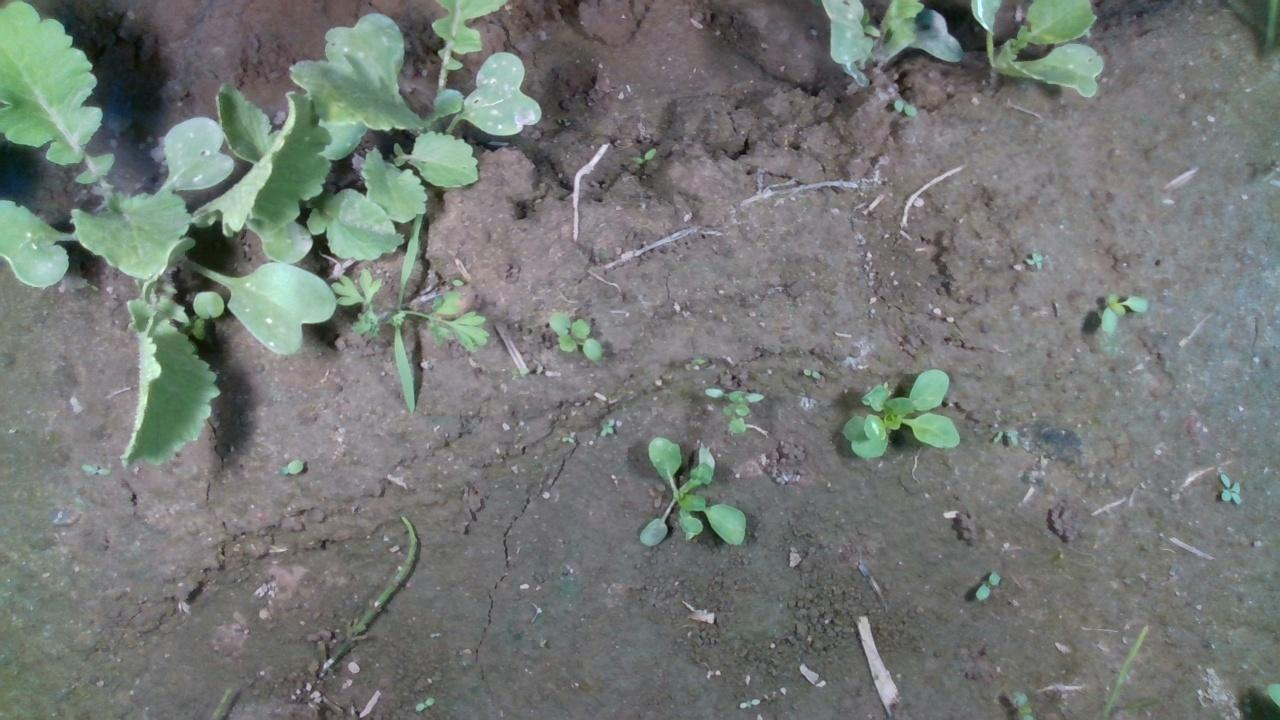weed: (547, 309, 603, 361), (1216, 470, 1242, 504), (972, 570, 1000, 601), (629, 144, 658, 165), (1023, 249, 1042, 271), (79, 463, 110, 474), (800, 366, 820, 378)
